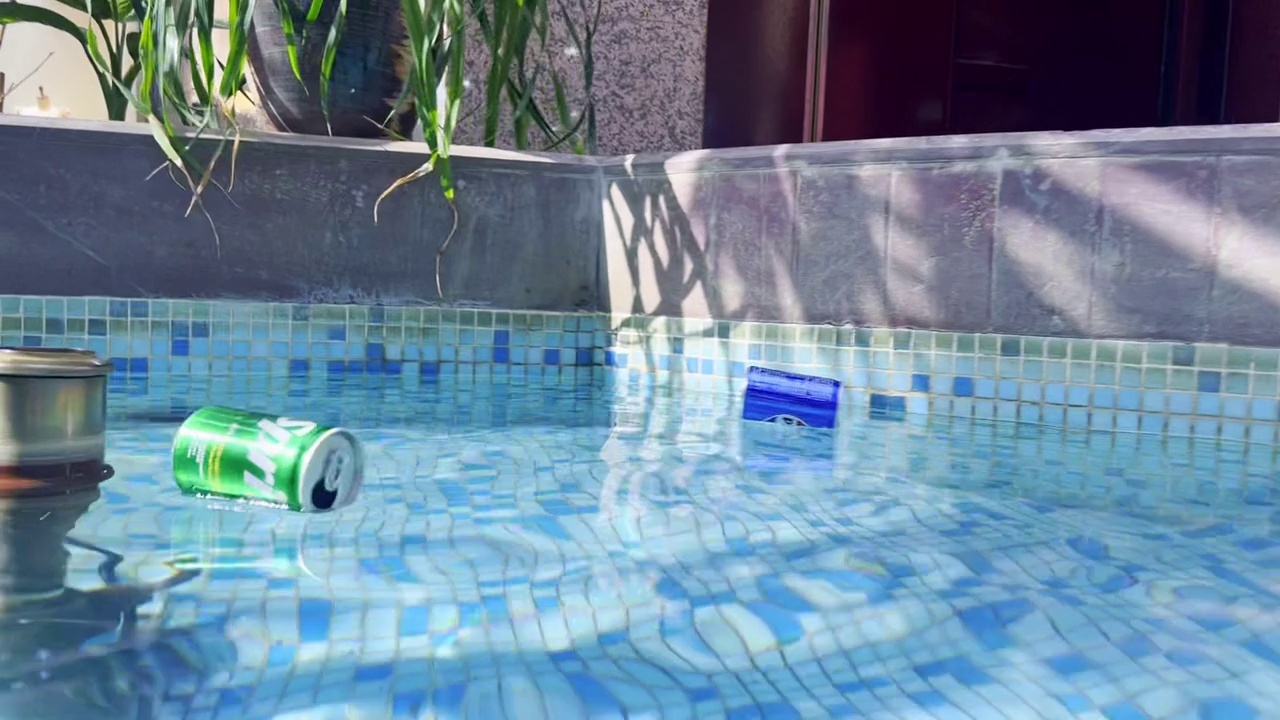debris: (159, 396, 372, 523), (735, 364, 860, 433)
